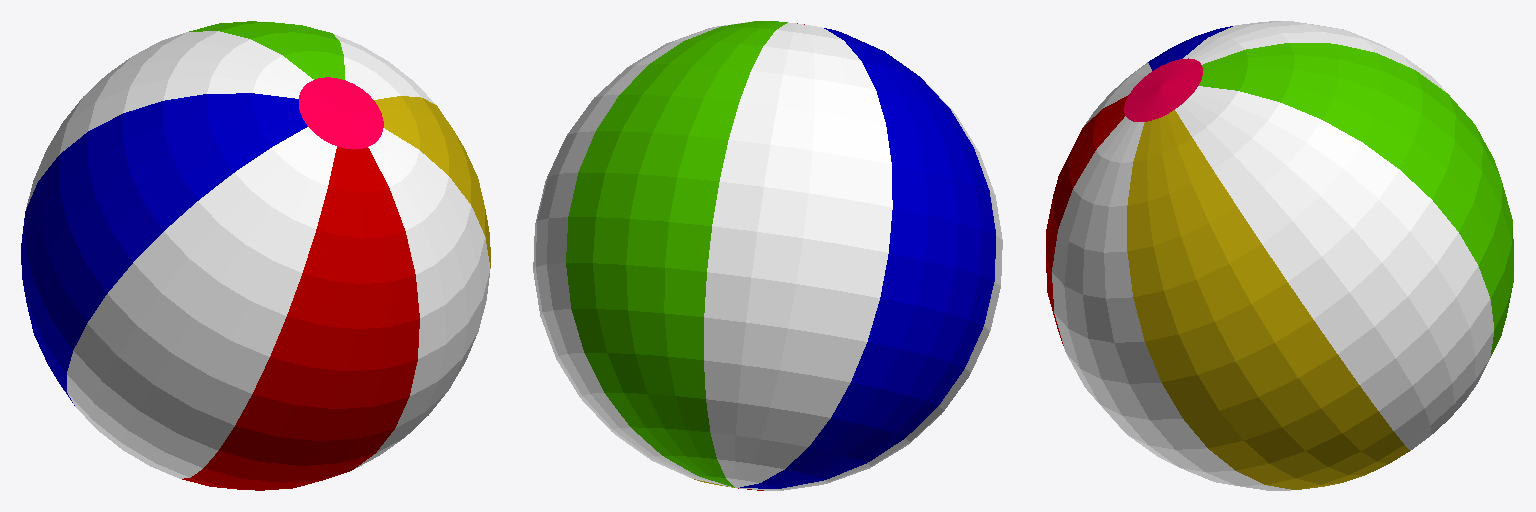
File: pelota.obj
The picture shows the model from 3 angles: view 1: azimuth 30°, elevation 25°; view 2: azimuth 150°, elevation 25°; view 3: azimuth 270°, elevation 25°; orthographic projection.
Visible parts, largest first — view 1: Sphere; view 2: Sphere; view 3: Sphere.
Boxes of the visible parts, x1=… form: Sphere: x1=21, y1=21, x2=490, y2=490; Sphere: x1=533, y1=21, x2=1002, y2=490; Sphere: x1=1046, y1=21, x2=1513, y2=490.
Size of the model in its own units: 2.22 by 2.22 by 2.21.